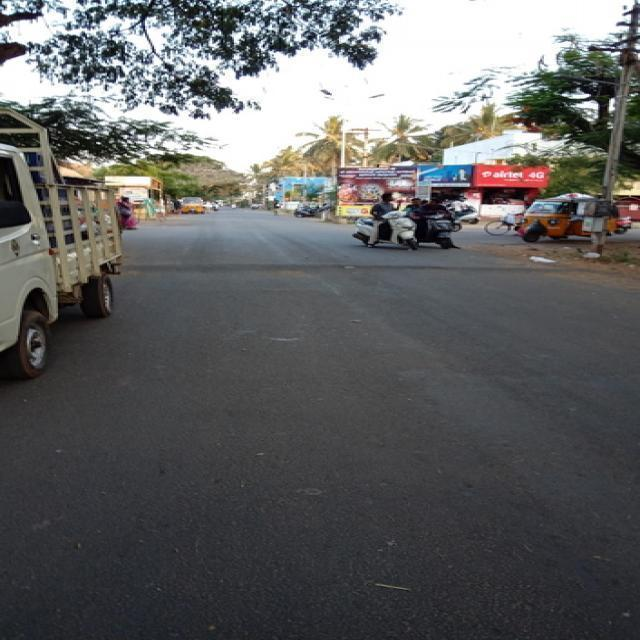speedbreaker: (108, 260, 610, 276)
